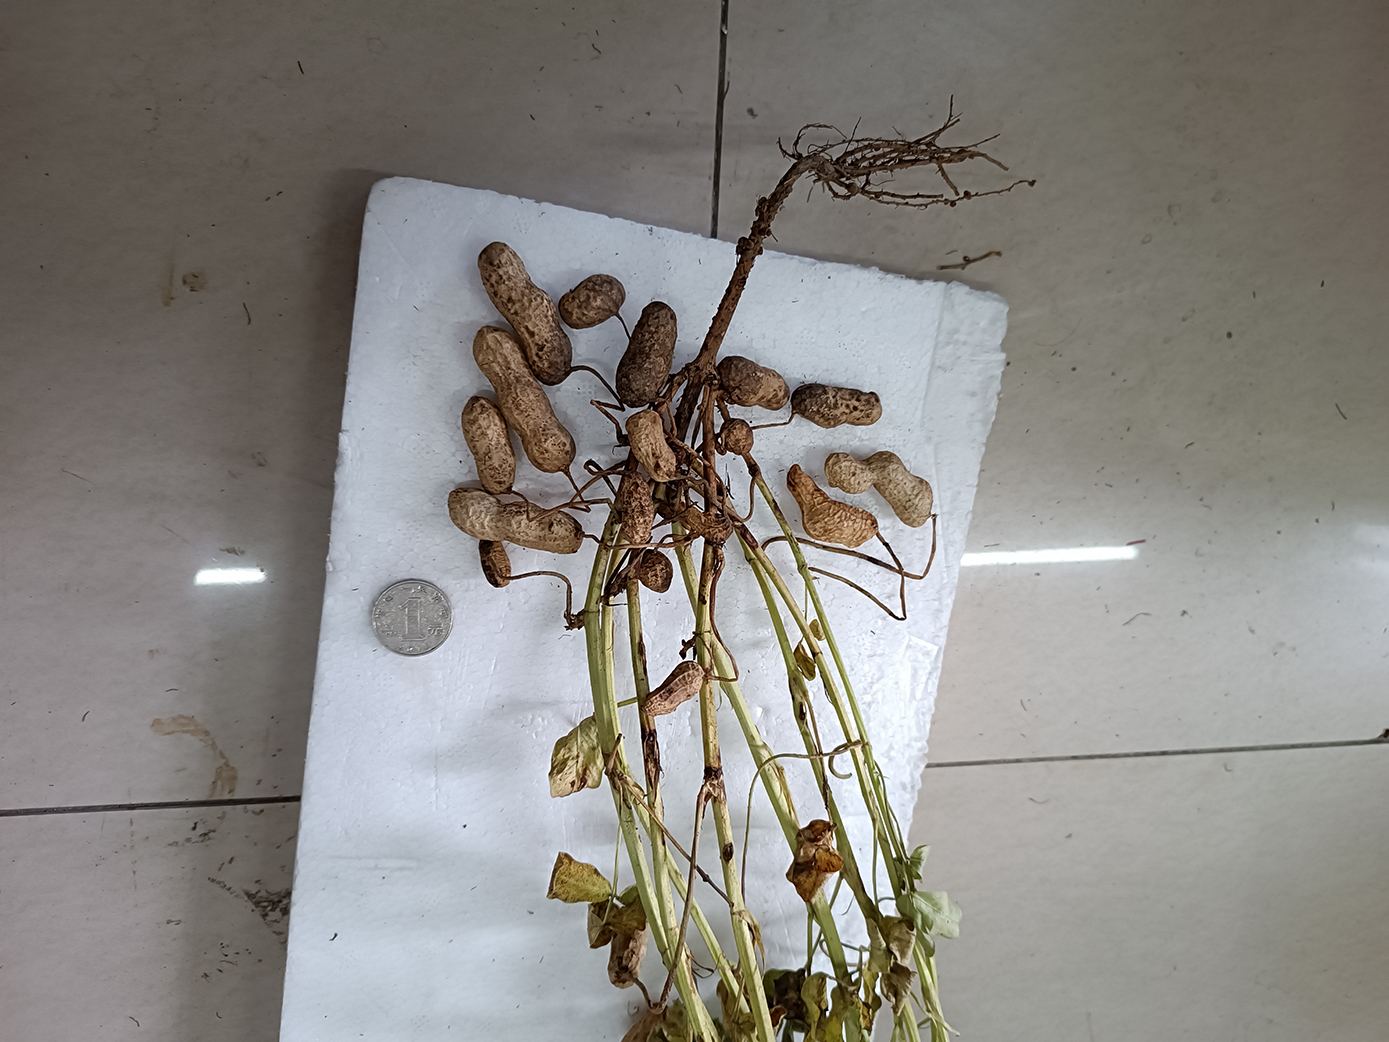h: (473, 326, 574, 470), (477, 241, 570, 385), (447, 487, 582, 554), (824, 450, 933, 526), (790, 465, 876, 548), (462, 398, 513, 495), (792, 383, 883, 430), (717, 356, 787, 412), (626, 412, 678, 483), (643, 661, 704, 717), (620, 474, 651, 548), (477, 539, 512, 589), (721, 418, 755, 456)
l: (617, 302, 678, 408), (559, 275, 627, 329), (630, 549, 674, 594)
